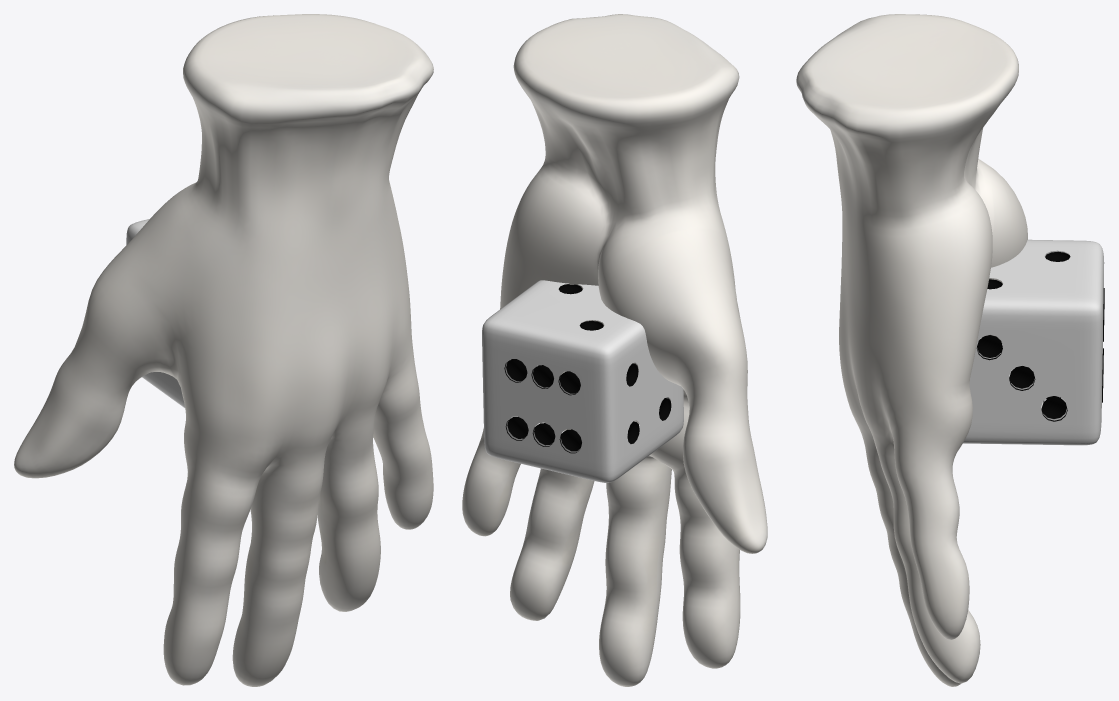
3 views of the same model, side by side, from view 1: azimuth 30°, elevation 25°; view 2: azimuth 150°, elevation 25°; view 3: azimuth 270°, elevation 25° (orthographic). The views are drawn at different scales.
Visible parts, largest first — view 1: model, Cube.001; view 2: model, Cube.001; view 3: model, Cube.001.
Boxes of the visible parts, <box> form: model: <box>14,14,433,686</box>; Cube.001: <box>126,219,184,407</box>; model: <box>462,14,767,686</box>; Cube.001: <box>482,280,683,482</box>; model: <box>796,14,1027,686</box>; Cube.001: <box>963,239,1104,445</box>.
Size of the model in its own units: 143 by 242 by 106.
3 materials, 1 textured.
